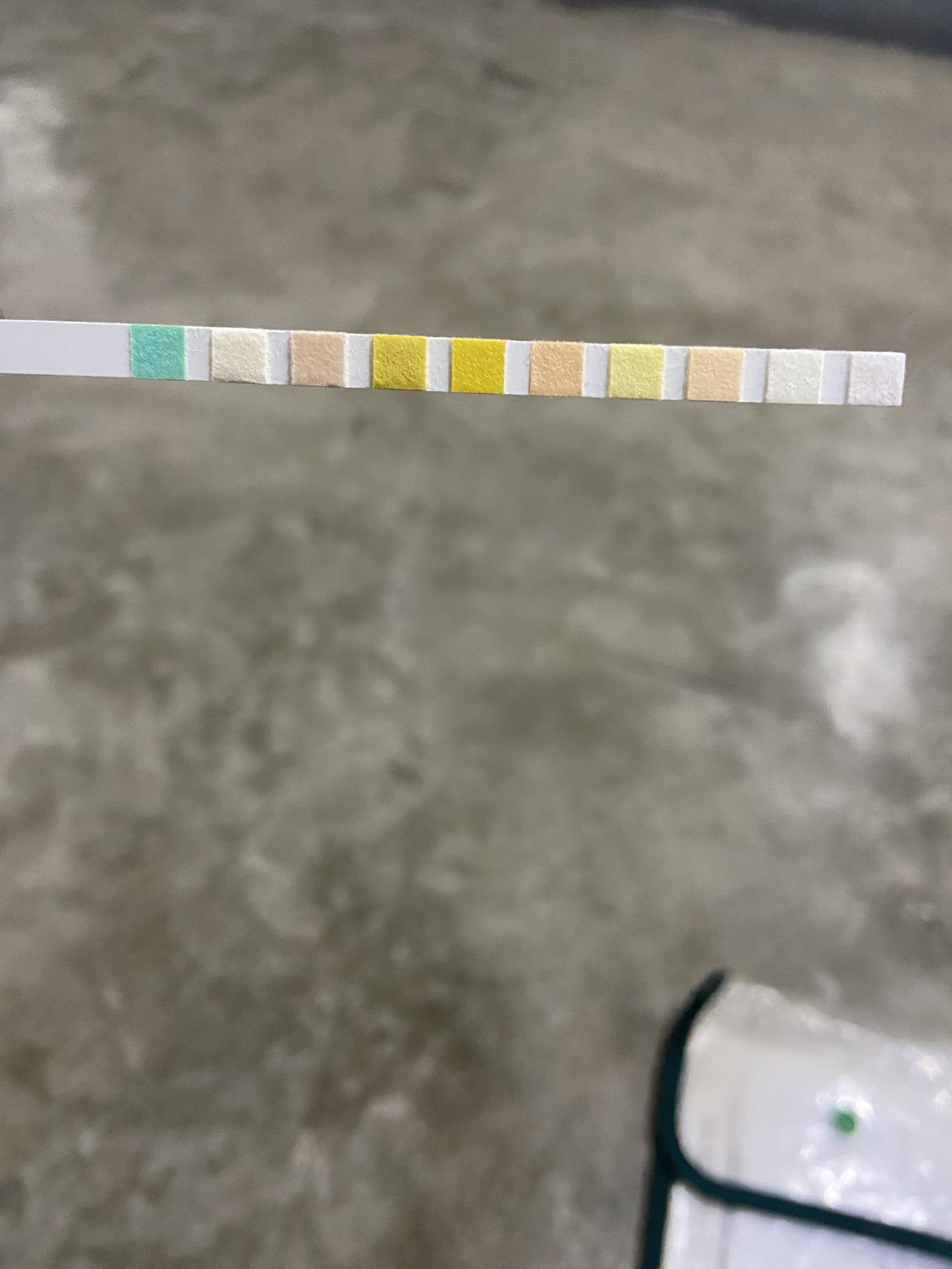Bilirubin: (212, 332, 264, 377)
Blood: (454, 341, 503, 391)
Glucose: (132, 328, 184, 377)
Ketone: (292, 336, 343, 383)
Leukocytes: (854, 356, 901, 403)
Nitrite: (773, 353, 818, 401)
Protein: (612, 348, 660, 397)
SpGravity: (375, 338, 426, 387)
Urobilinogen: (691, 350, 739, 398)
pH: (534, 344, 580, 394)
strip: (0, 320, 909, 406)
